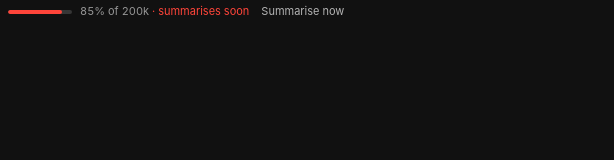
it: the context meter › waits for a running reply, and says when a summary fails
The width and height of the screenshot is (614, 160).
Click the button "Summarise now" at (303, 12), box [257,4,348,19]
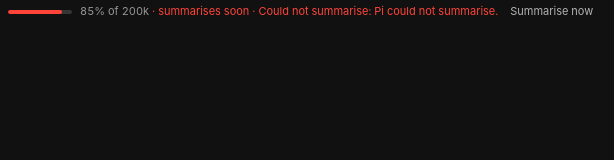
Check: the button "Summarise now" is shown, box [506,4,597,19]
Check: the message "· Could not summarise: Pi could not summarise." is shown, box [249,5,498,18]
